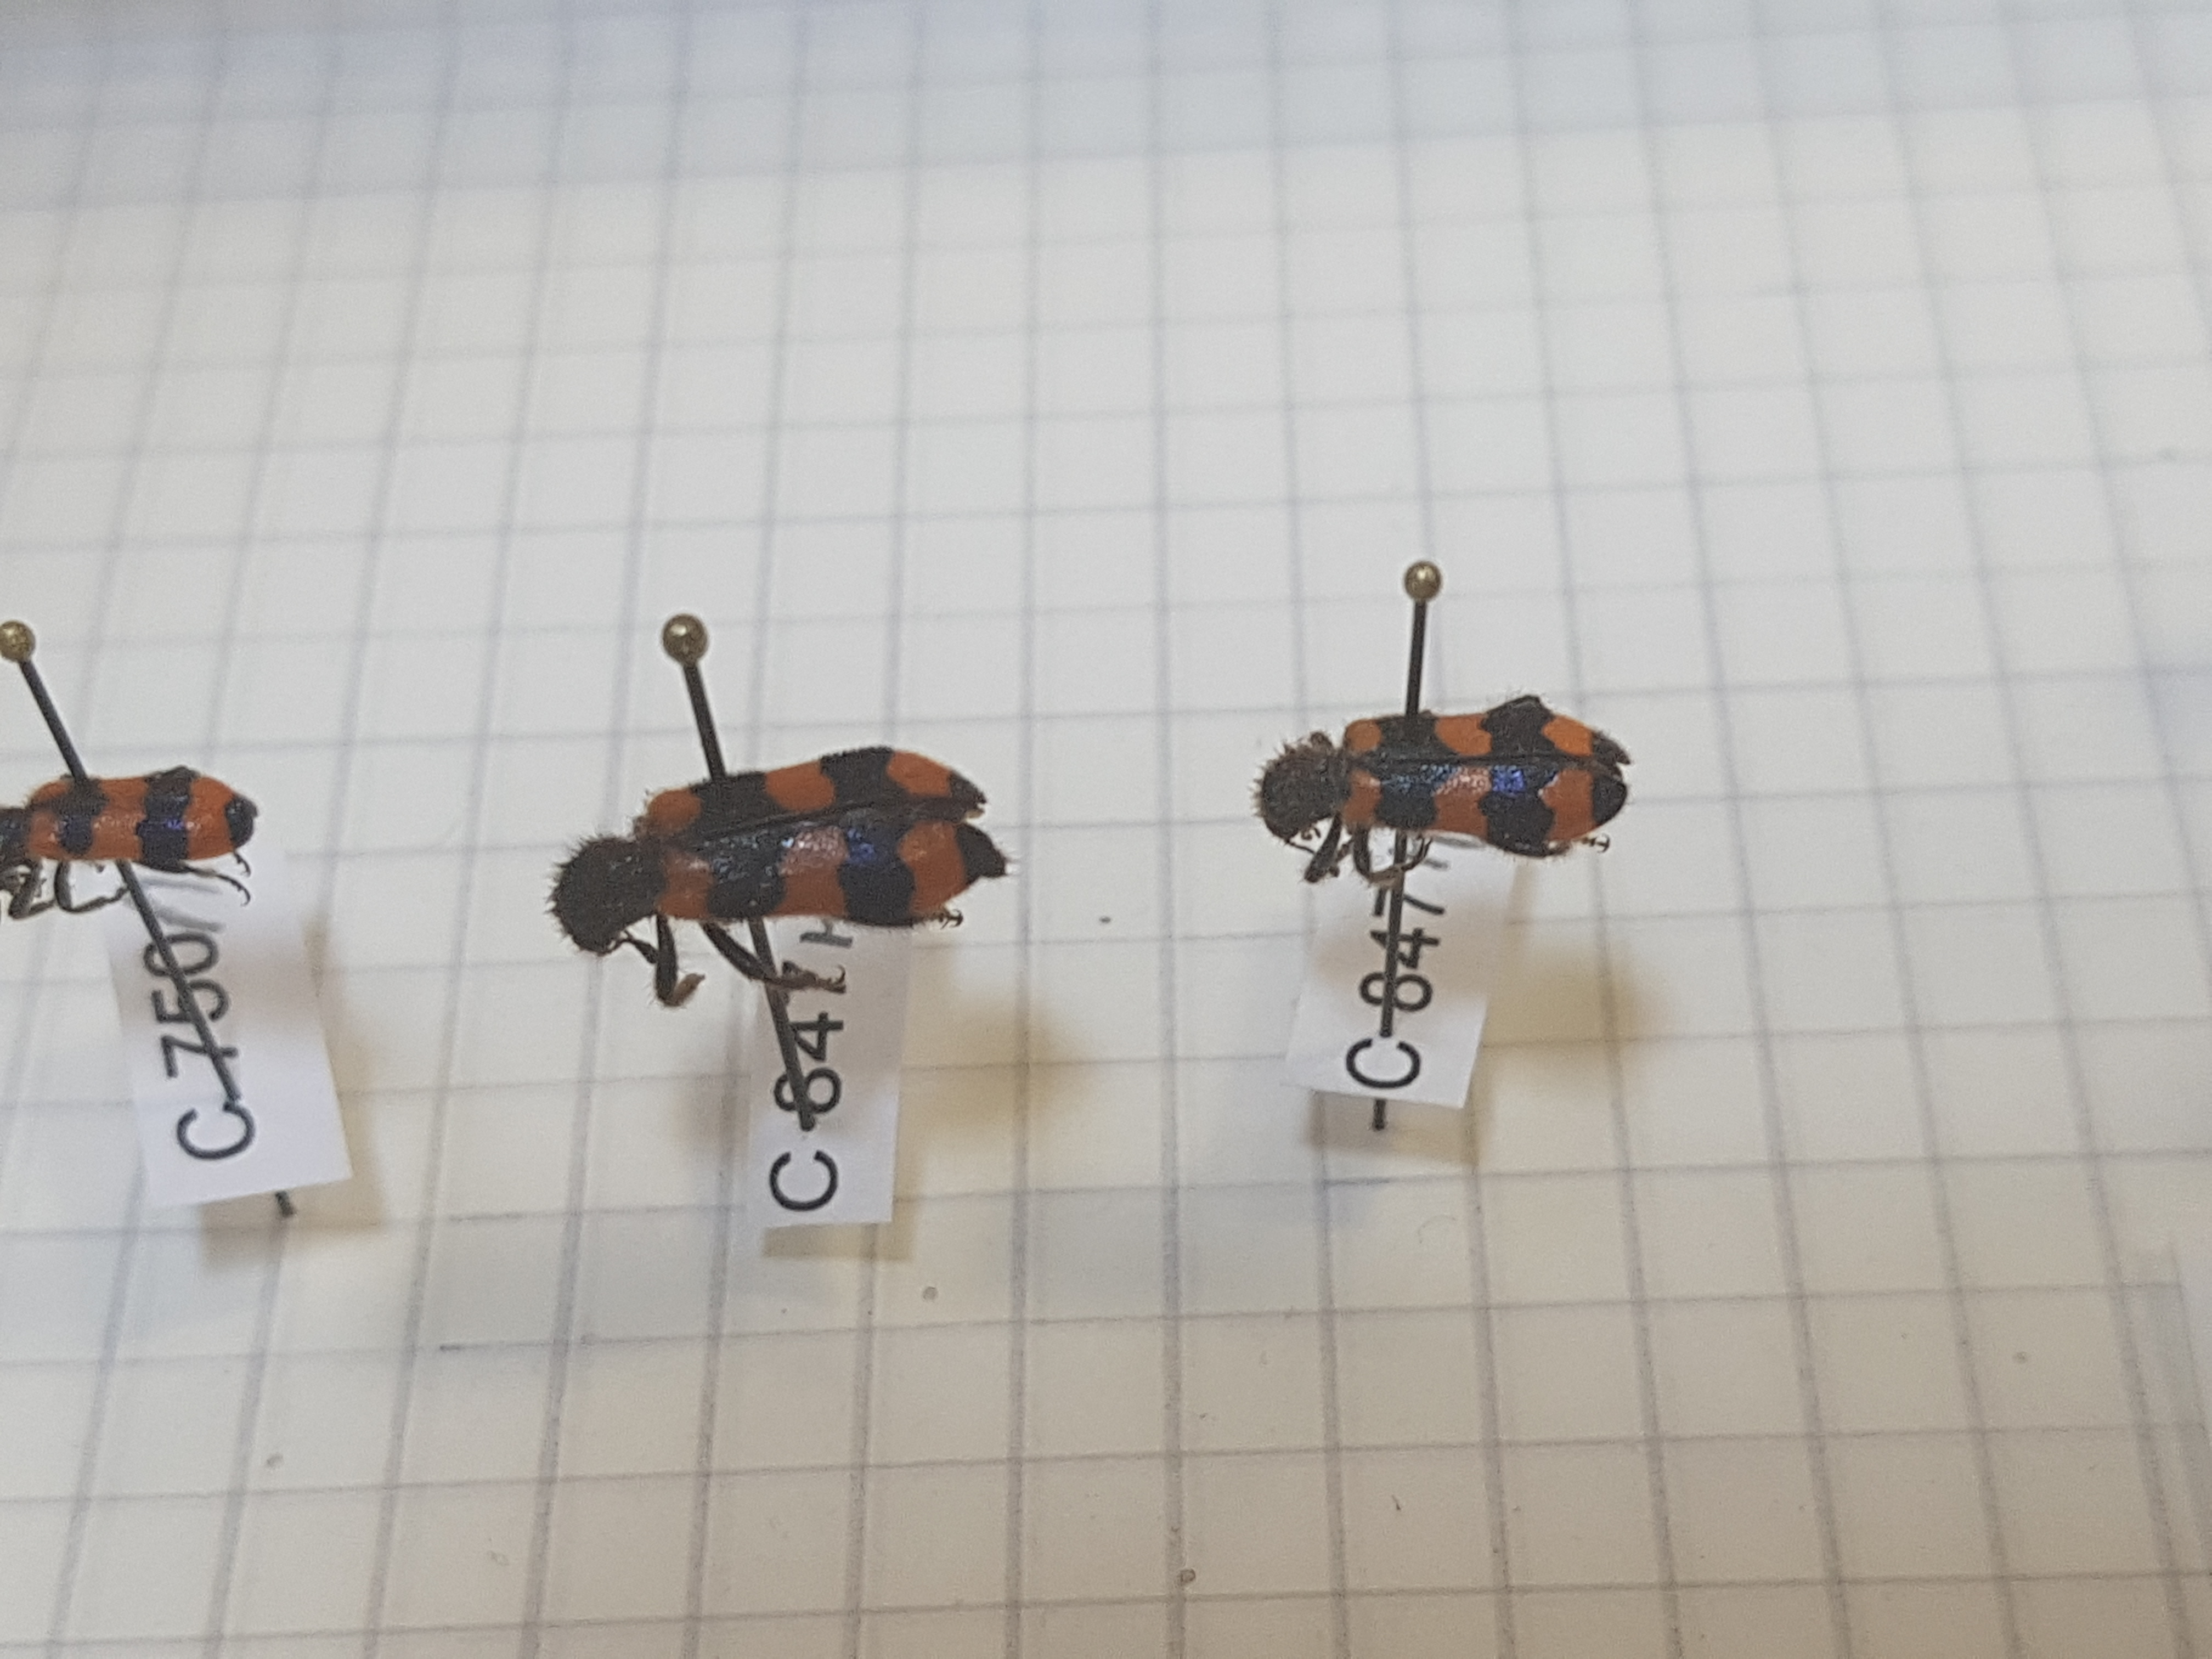trichodes_apiarius: (535, 737, 1026, 1025), (1254, 680, 1655, 918), (12, 746, 260, 938)
